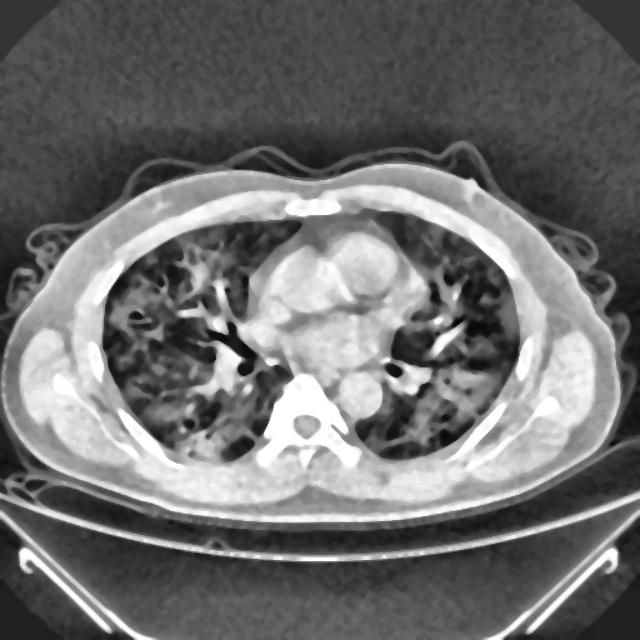covid: (2, 144, 624, 529)
